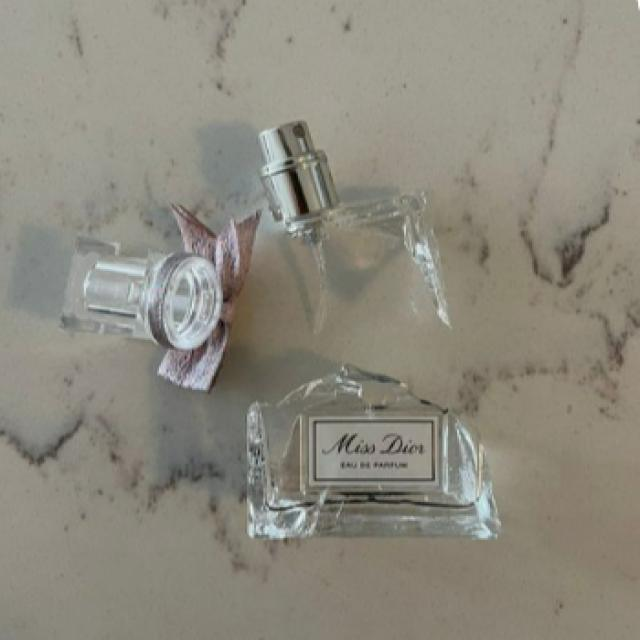PecahanKaca: (243, 362, 499, 540), (254, 191, 454, 335)
